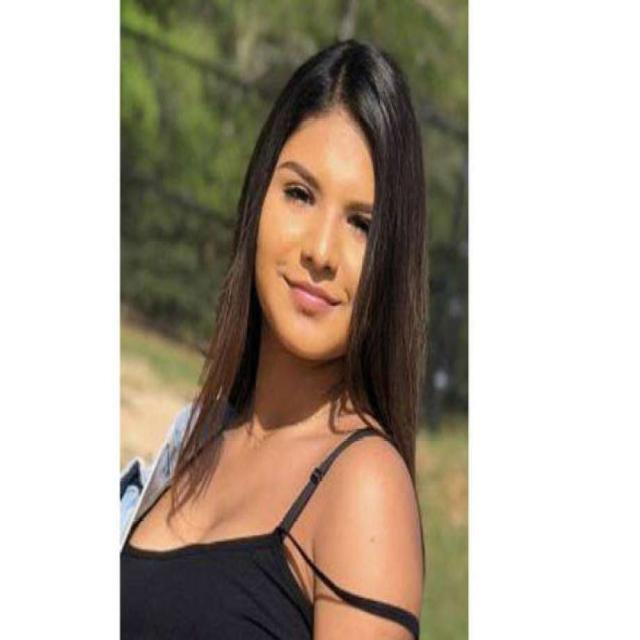mobile_phonerotation: (119, 36, 431, 636)
